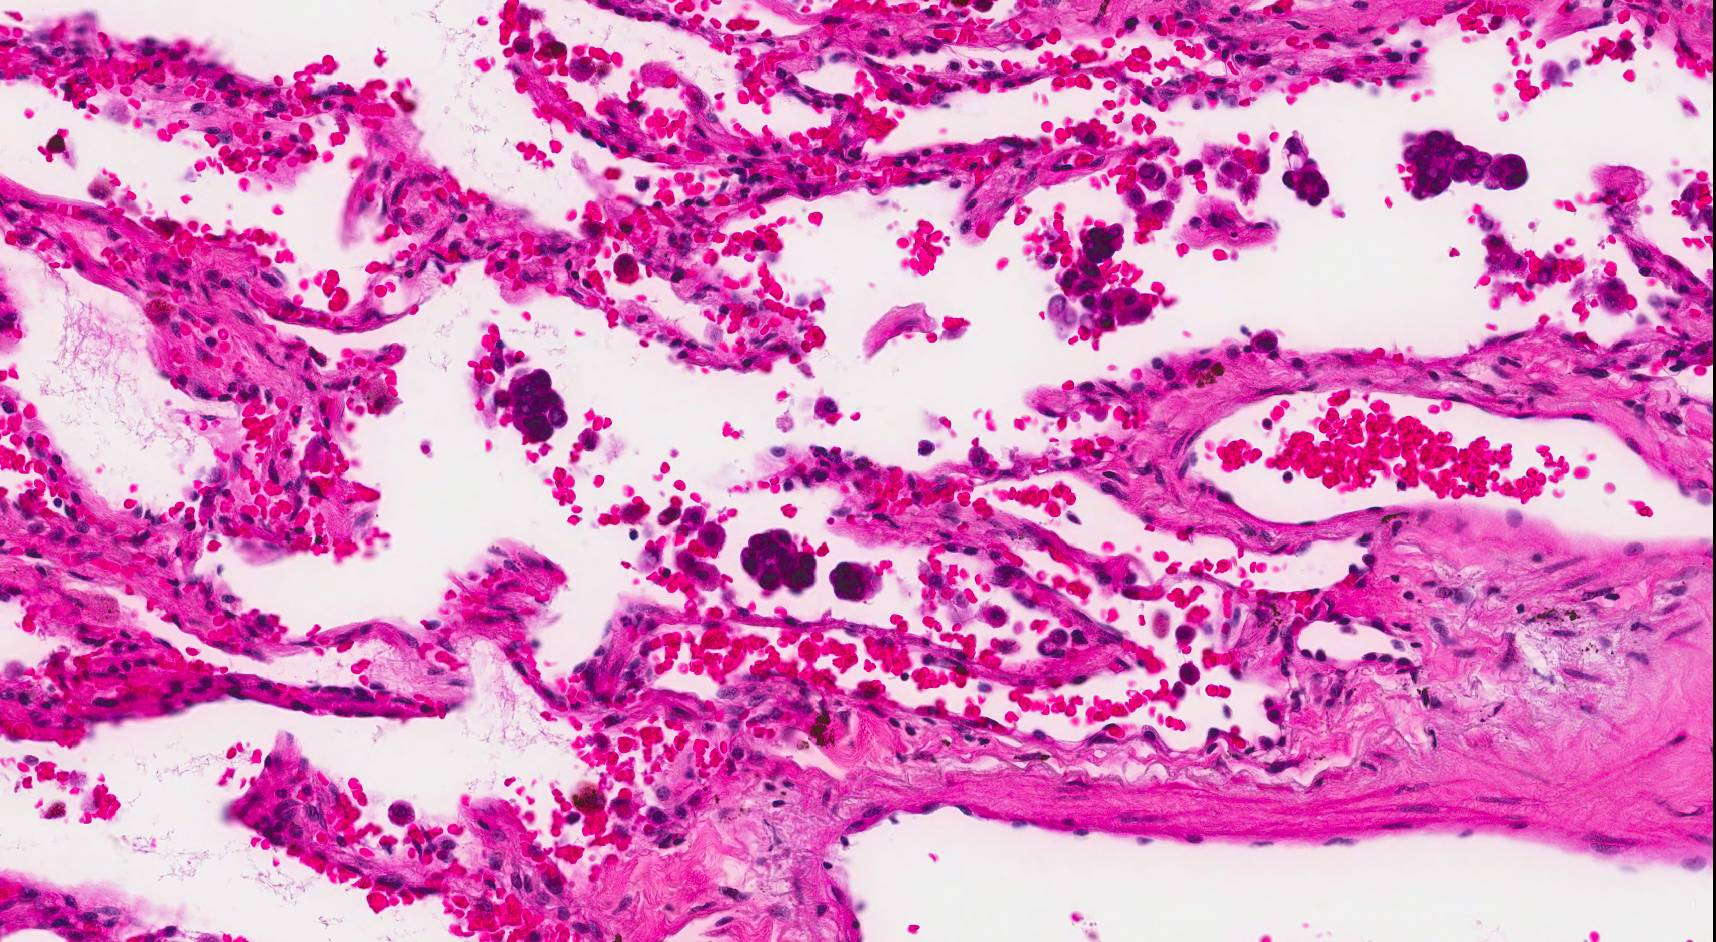stas: (1050, 217, 1162, 340), (1400, 126, 1532, 207), (741, 518, 822, 599), (495, 368, 567, 448), (1280, 128, 1336, 213), (829, 560, 885, 604)
